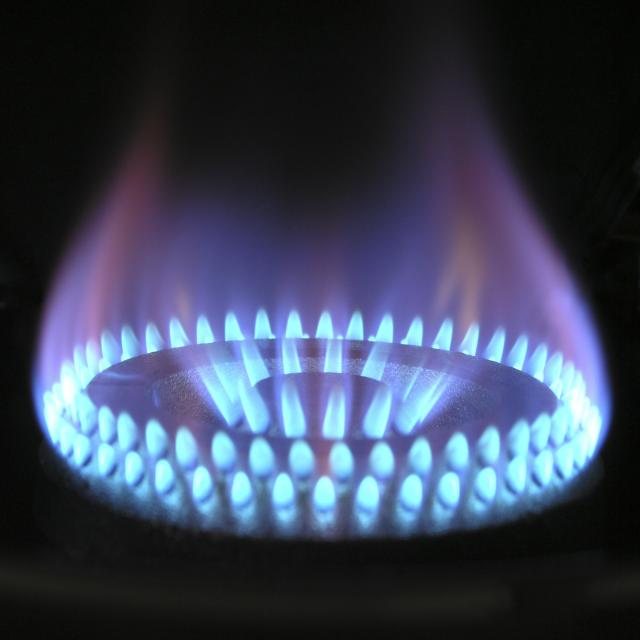fire: (23, 52, 636, 518)
